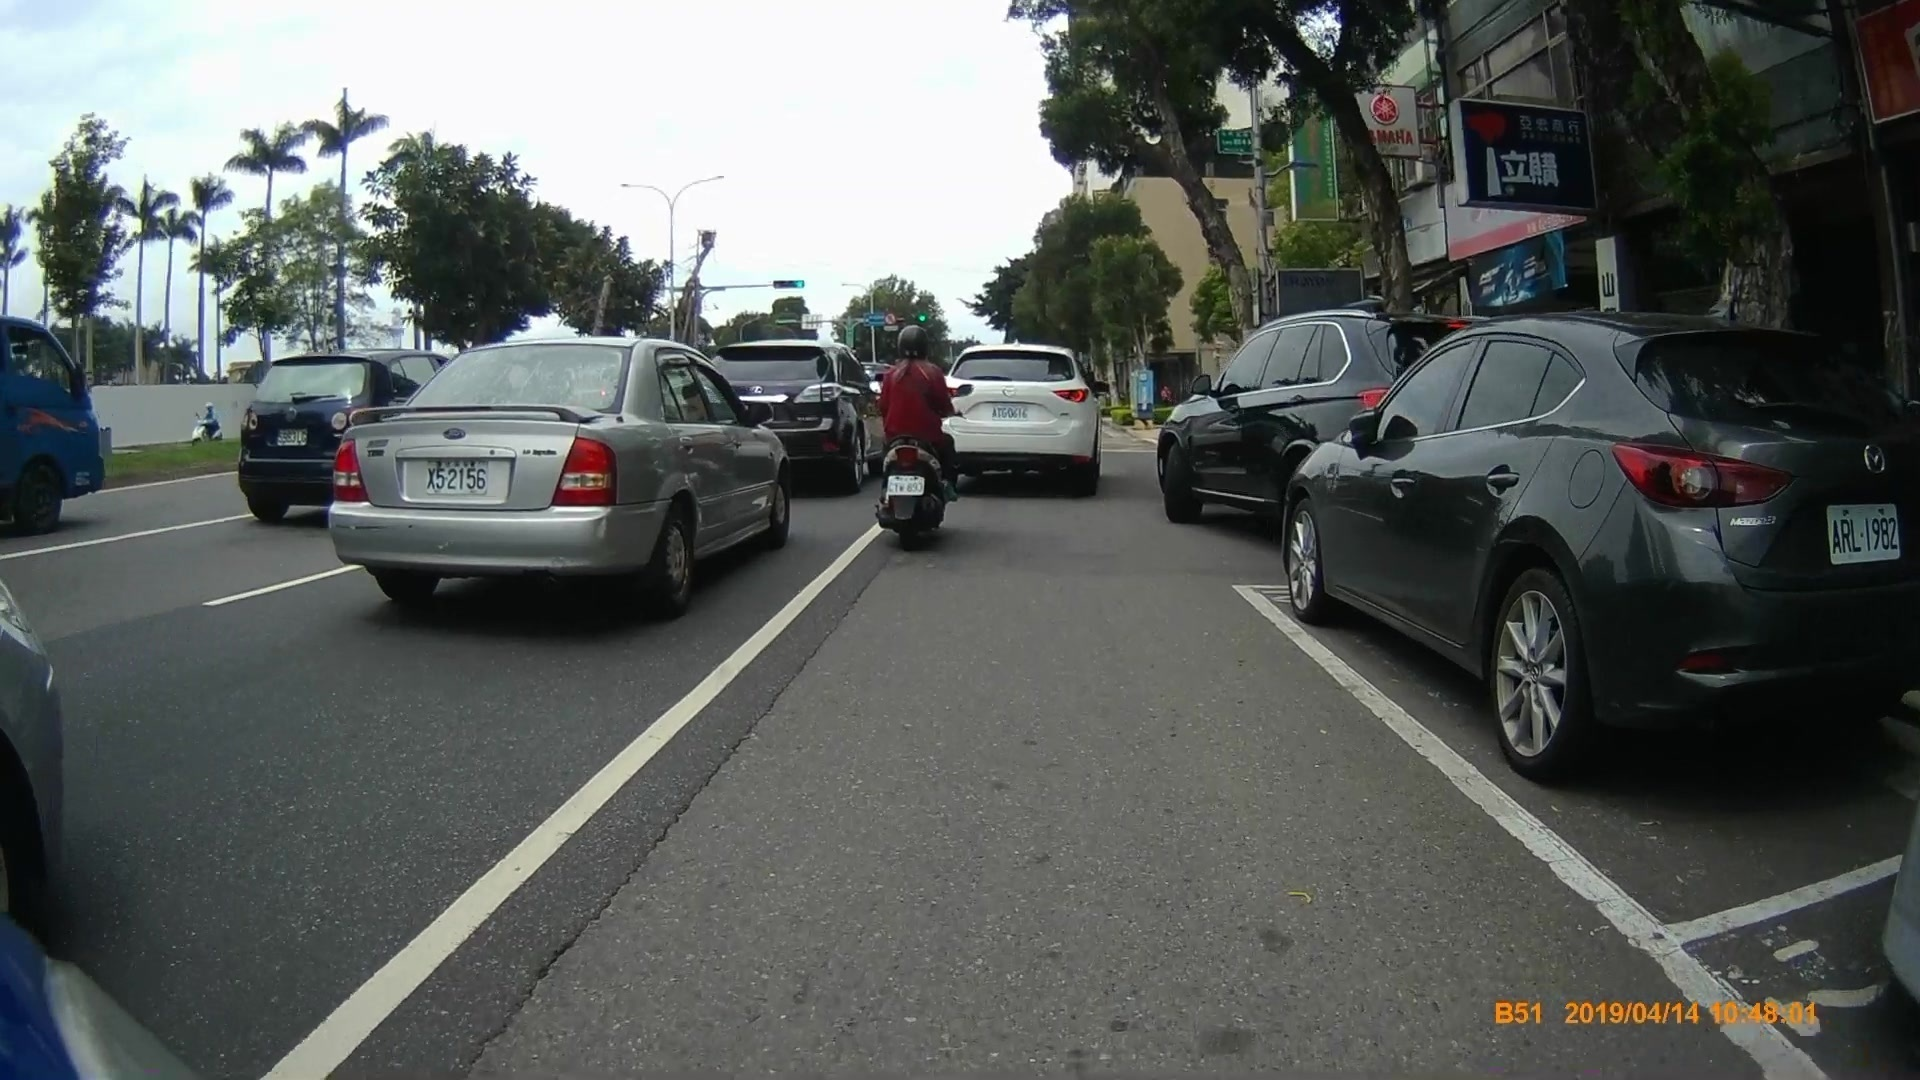License_plate: (1823, 506, 1899, 562), (426, 462, 489, 496), (884, 475, 925, 498), (990, 406, 1025, 422)
